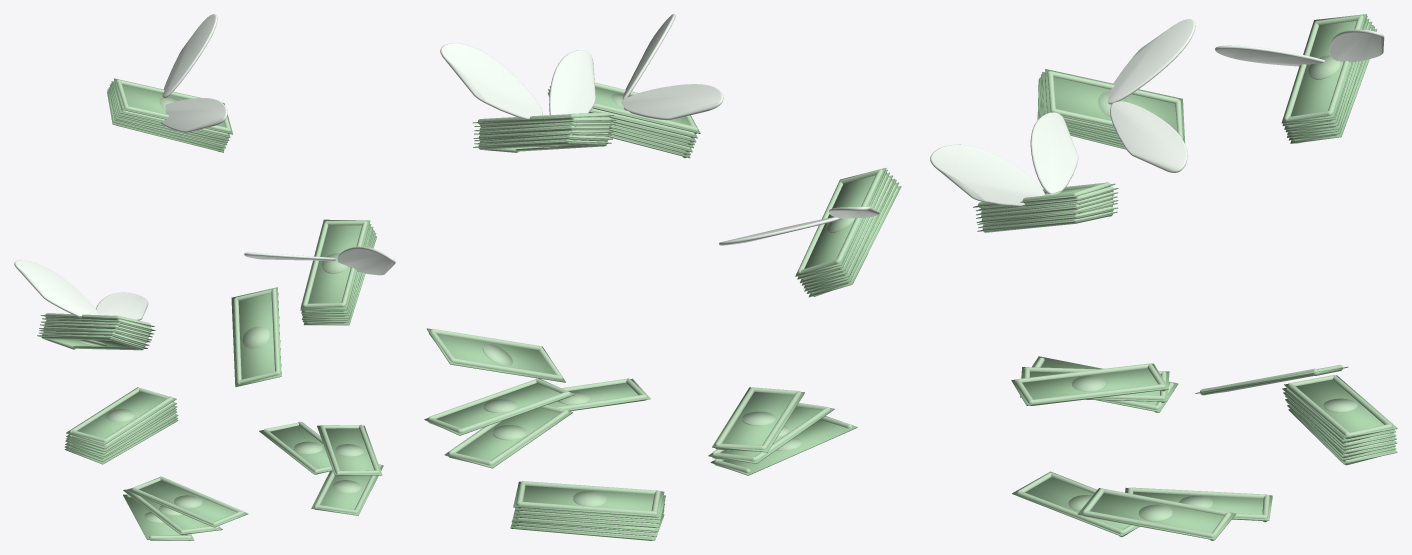
The model's file is cashflow.glb.
3 renders of one model, left to right at view 1: azimuth 30°, elevation 25°; view 2: azimuth 150°, elevation 25°; view 3: azimuth 270°, elevation 25°, orthographic. The views are drawn at different scales.
Parts seen in each view (by area): view 1: cash; view 2: cash; view 3: cash.
Boxes of the visible parts, x1,y1,x2,y2 form: cash: [14, 14, 395, 540]; cash: [424, 14, 901, 540]; cash: [930, 14, 1397, 540].
Bounding box in the file's own units: 104 × 108 × 96.68.
